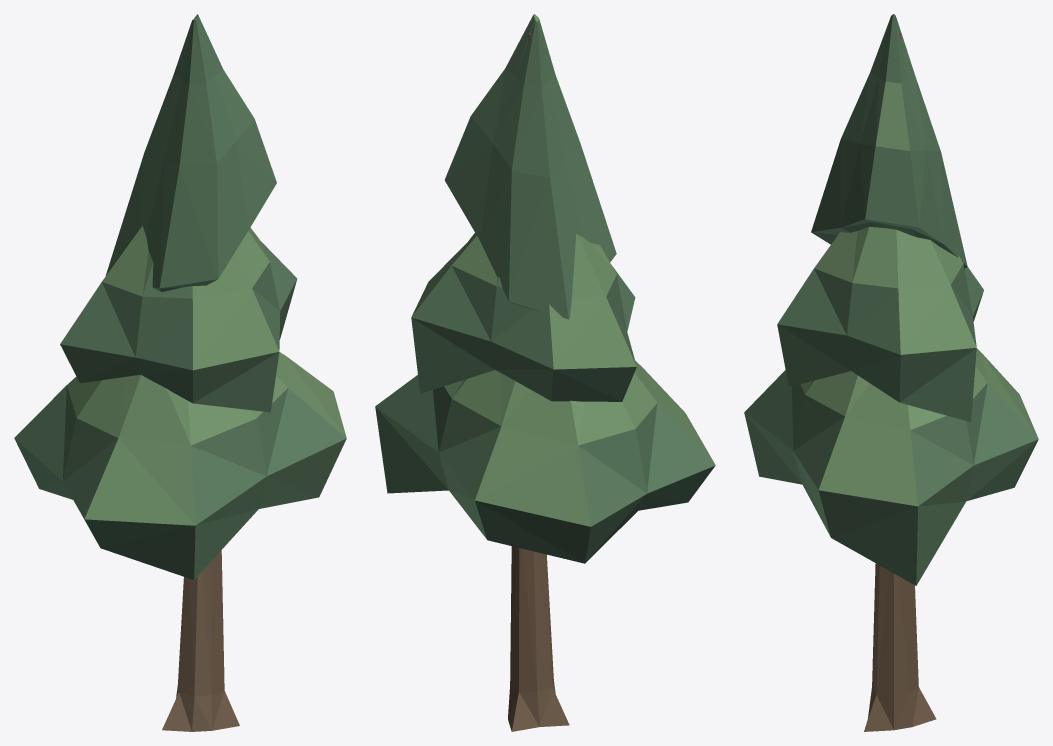
3 renders of one model, left to right at view 1: azimuth 30°, elevation 25°; view 2: azimuth 150°, elevation 25°; view 3: azimuth 270°, elevation 25°, orthographic.
Visible parts, largest first — view 1: nature-young-conifer-01; view 2: nature-young-conifer-01; view 3: nature-young-conifer-01.
Boxes of the visible parts, box(x1,y1,x2,y2) form: nature-young-conifer-01: box(14, 14, 346, 731); nature-young-conifer-01: box(375, 14, 715, 731); nature-young-conifer-01: box(744, 14, 1038, 731).
Size of the model in its own units: 1.67 by 3.82 by 1.45.
